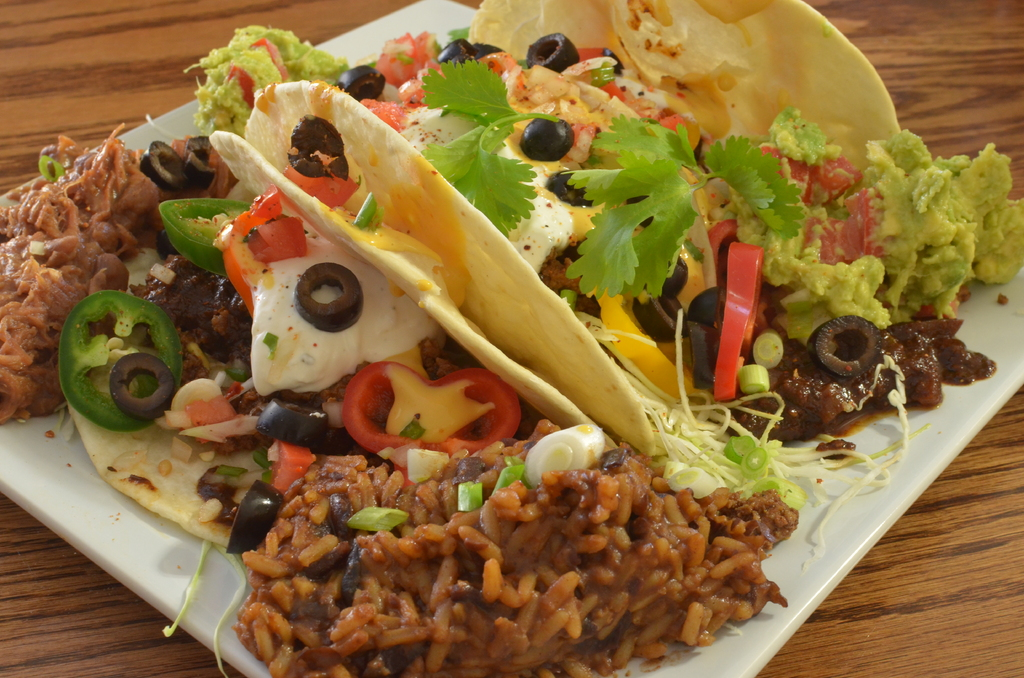taco: (65, 125, 625, 565), (455, 0, 906, 327)
